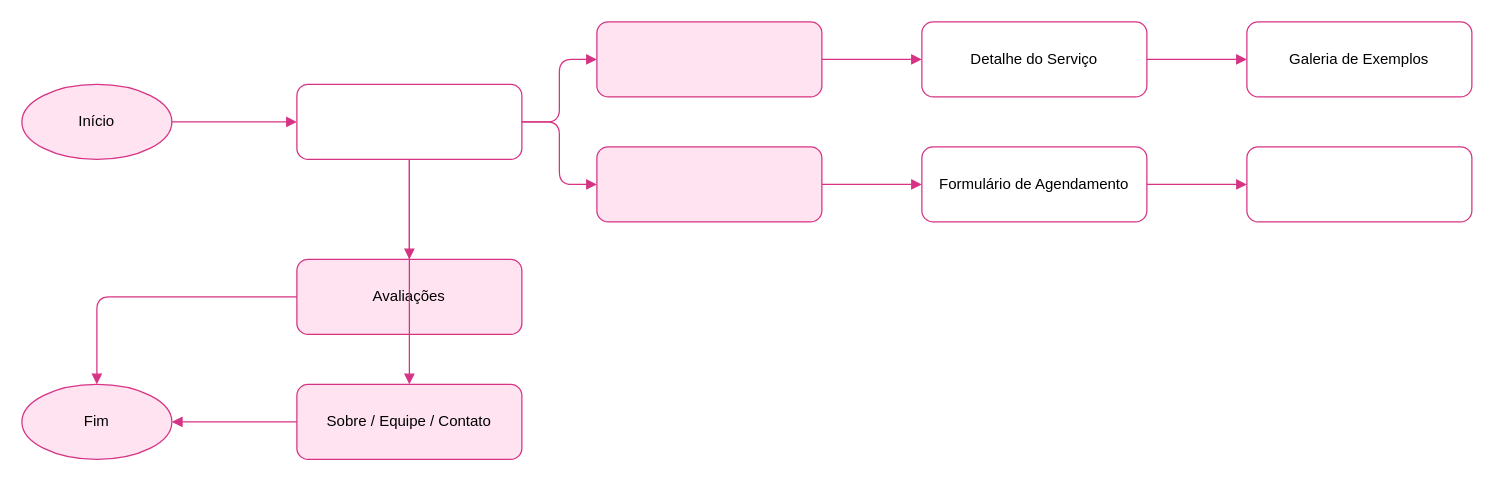
This 1494x481 diagram has some shape labels left out. The shapes that lost their labels are listed below. From the top down, each one's centre as x and y in pixels, then its label:
pixel 709 59: Explorar Serviços
pixel 409 121: Página Inicial
pixel 709 184: Agendar Horário
pixel 1359 184: Confirmação de Agendamento
